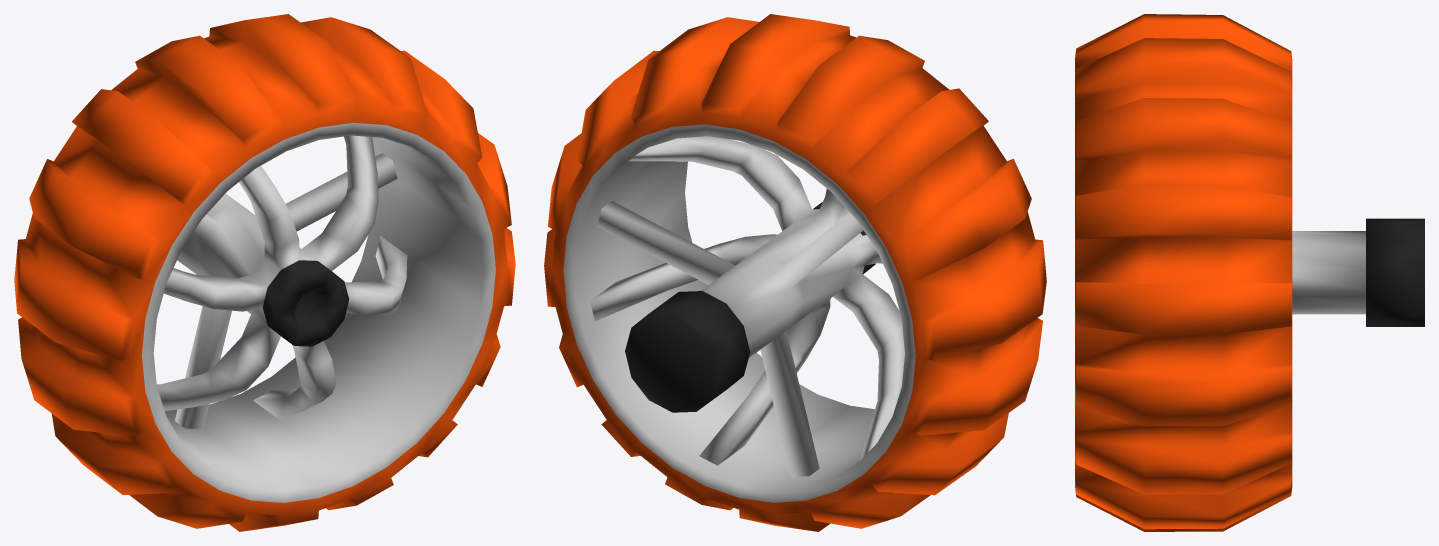
The model's file is Rueda_Med_Der.obj.
3 renders of one model, left to right at view 1: azimuth 30°, elevation 25°; view 2: azimuth 150°, elevation 25°; view 3: azimuth 270°, elevation 25°, orthographic.
Visible parts, largest first — view 1: Rueda_Med_Der; view 2: Rueda_Med_Der; view 3: Rueda_Med_Der.
Boxes of the visible parts, bbox=[...] form: Rueda_Med_Der: bbox=[14, 14, 515, 531]; Rueda_Med_Der: bbox=[544, 14, 1046, 531]; Rueda_Med_Der: bbox=[1075, 14, 1424, 531].
Size of the model in its own units: 2.48 by 2.48 by 1.67.
